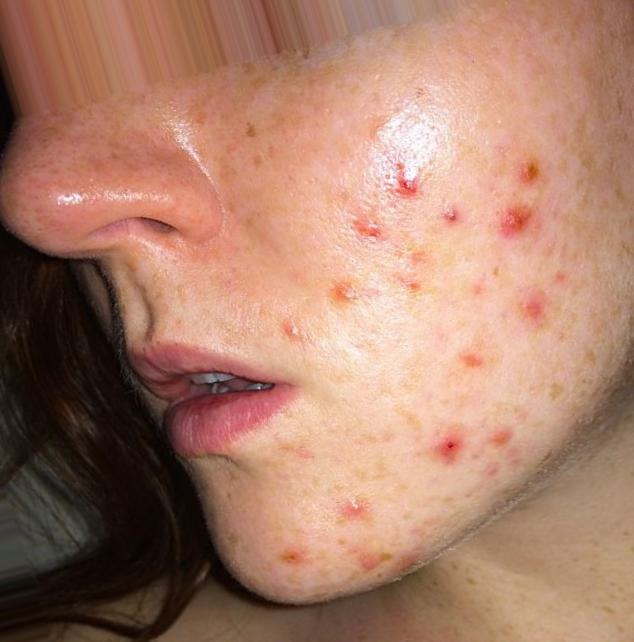Acne: (304, 152, 587, 590)
